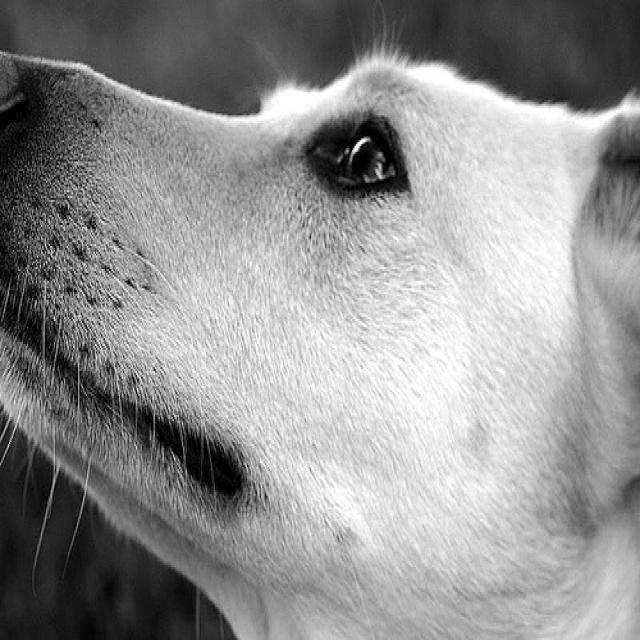dog: (0, 52, 639, 638)
